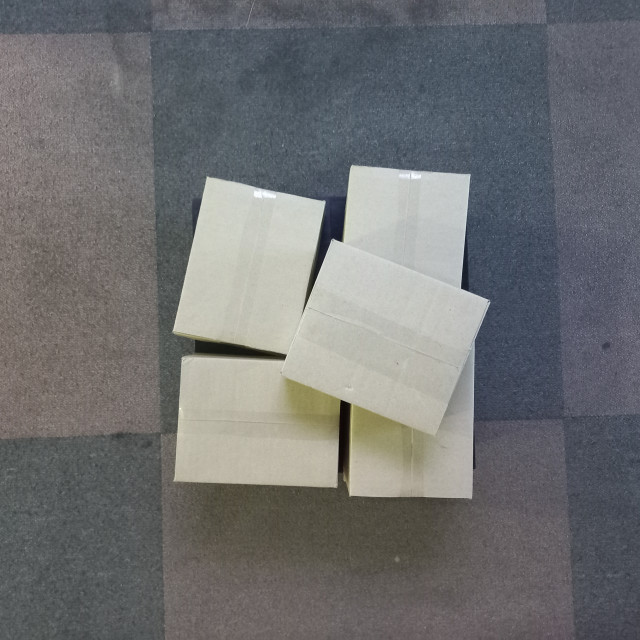box: (280, 235, 489, 439), (290, 234, 446, 439), (171, 173, 328, 359), (169, 349, 343, 492), (208, 173, 325, 357), (206, 348, 337, 492)
